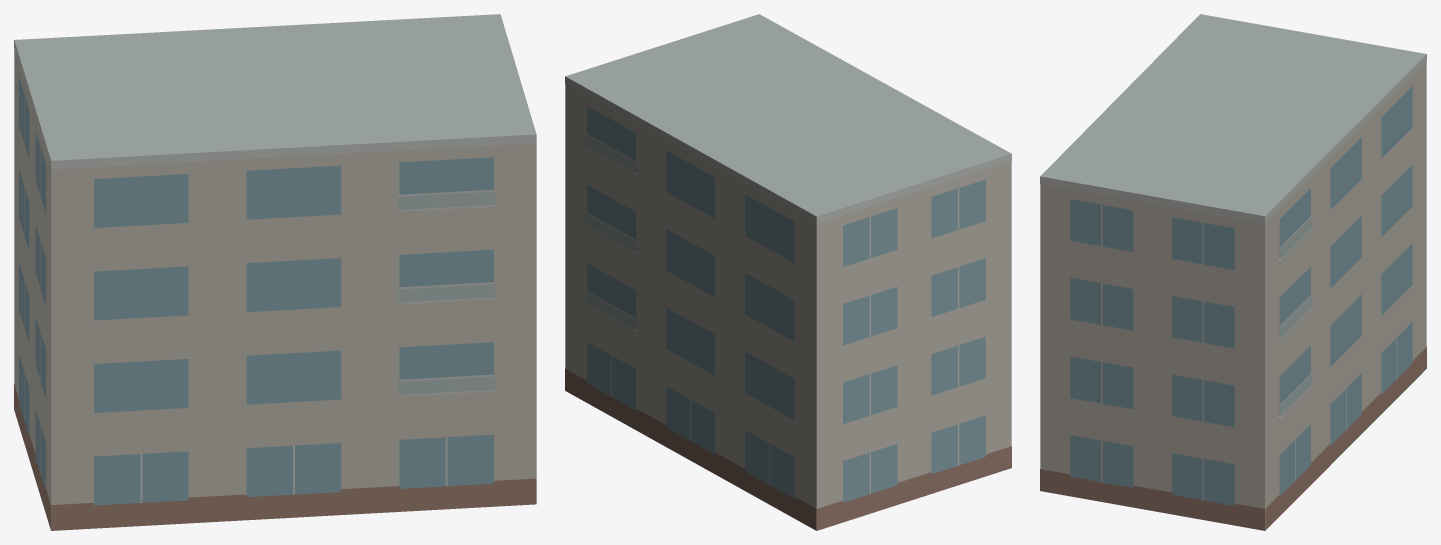
The model's file is survey-upis-32567110.glb.
3 views of the same model, side by side, from view 1: azimuth 30°, elevation 25°; view 2: azimuth 150°, elevation 25°; view 3: azimuth 270°, elevation 25° (orthographic). The views are drawn at different scales.
Parts seen in each view (by area): view 1: survey-upis-32567110.tmp; view 2: survey-upis-32567110.tmp; view 3: survey-upis-32567110.tmp.
Boxes of the visible parts, bbox=[...] form: survey-upis-32567110.tmp: bbox=[14, 14, 536, 530]; survey-upis-32567110.tmp: bbox=[565, 14, 1011, 530]; survey-upis-32567110.tmp: bbox=[1040, 14, 1426, 530].
Bounding box in the file's own units: 14.21 × 10.3 × 11.48.
